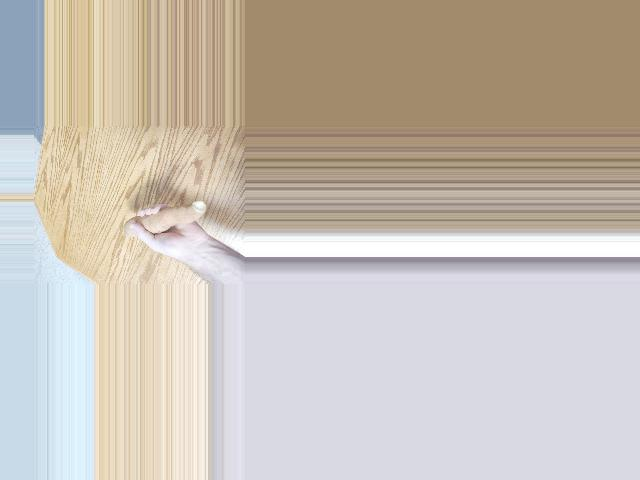sweet_potato: (120, 201, 211, 235)
